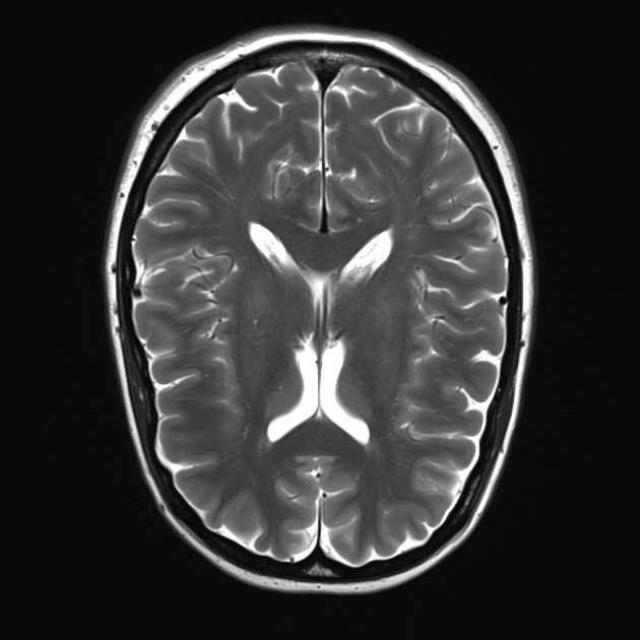notumor: (106, 29, 533, 593)
